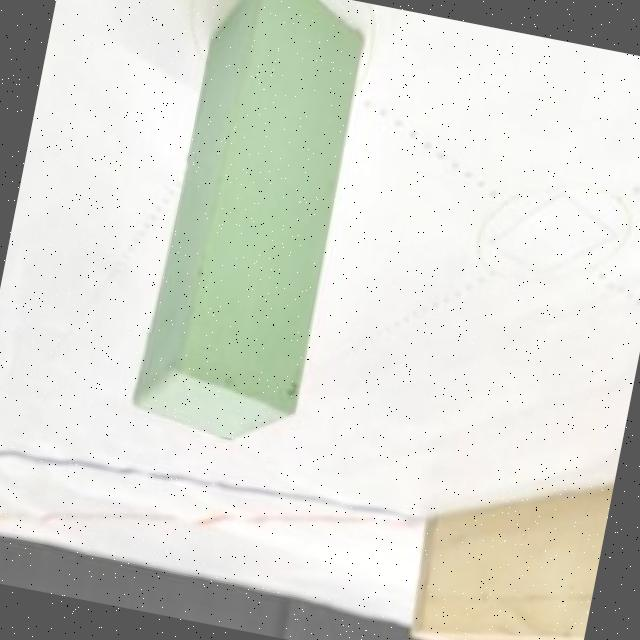greenbox: (126, 0, 379, 459)
